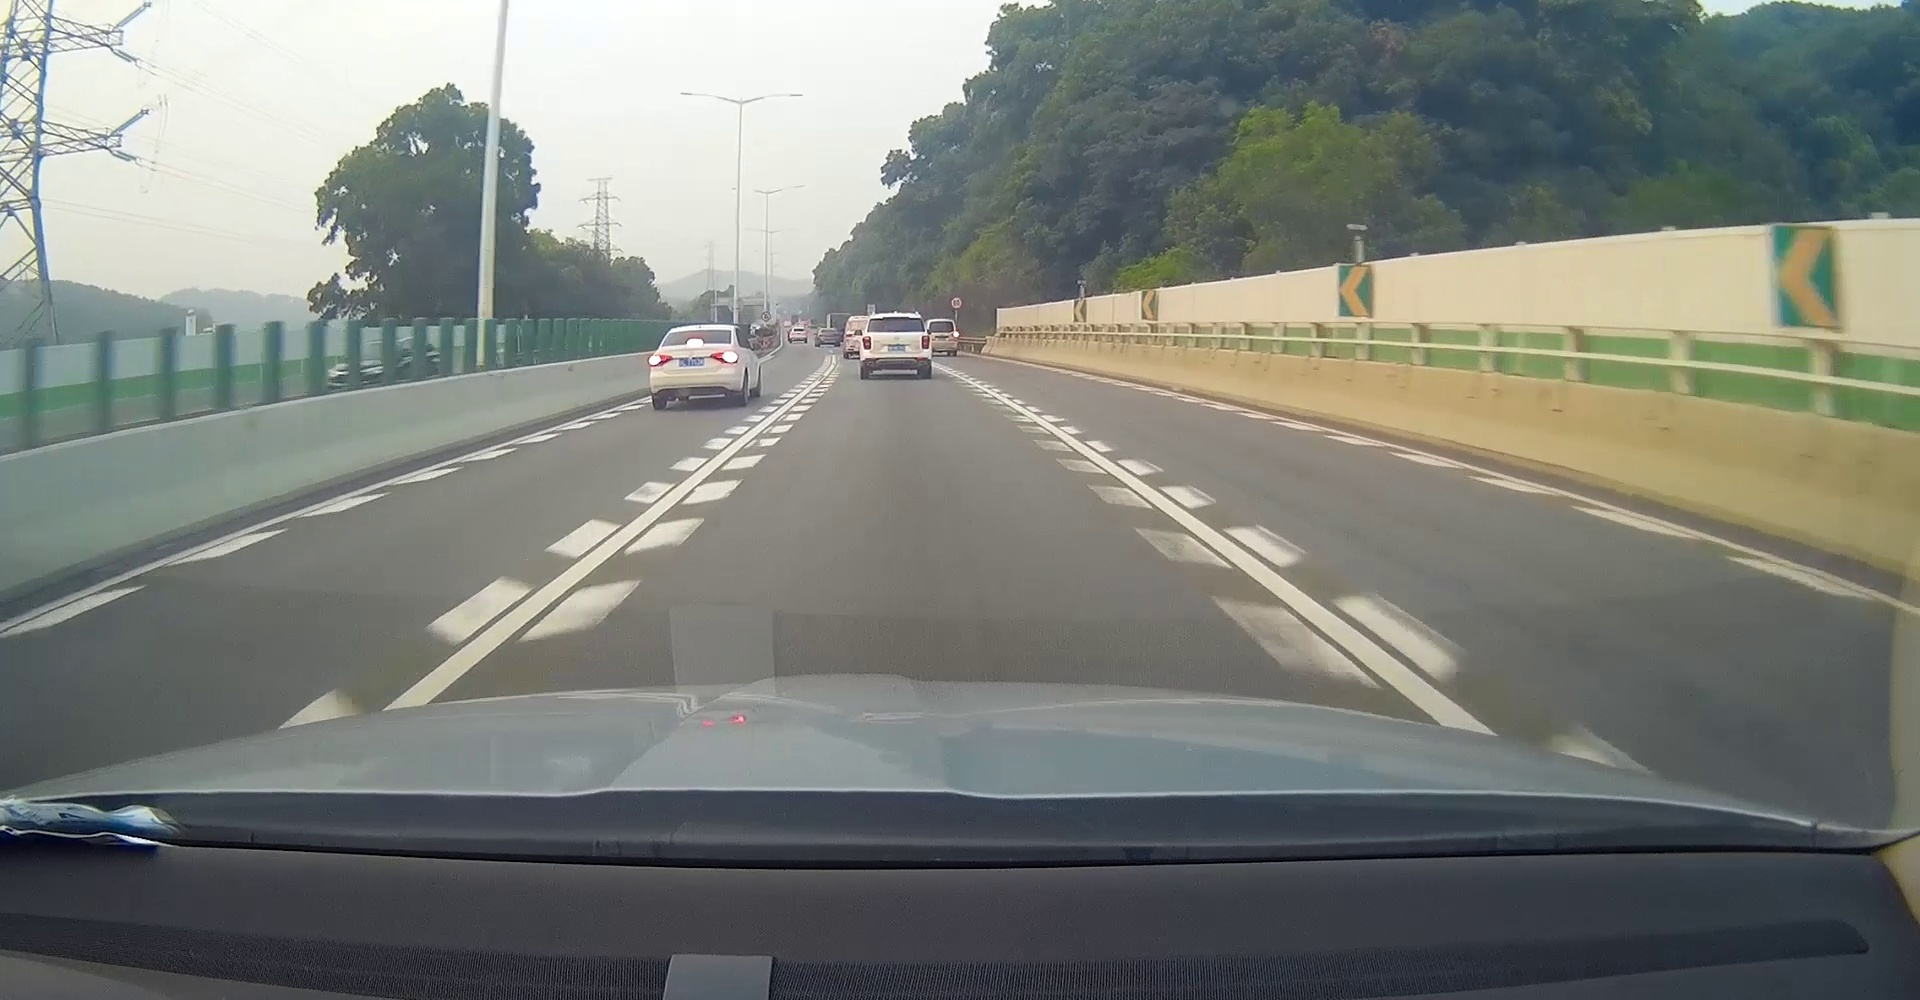L_light: (649, 355, 673, 367), (862, 336, 872, 350)
R_light: (710, 350, 738, 363), (921, 336, 930, 350)
T_light: (884, 316, 910, 320), (687, 339, 703, 344)
day-brake: (649, 324, 739, 409)
day-no: (858, 313, 932, 379)
